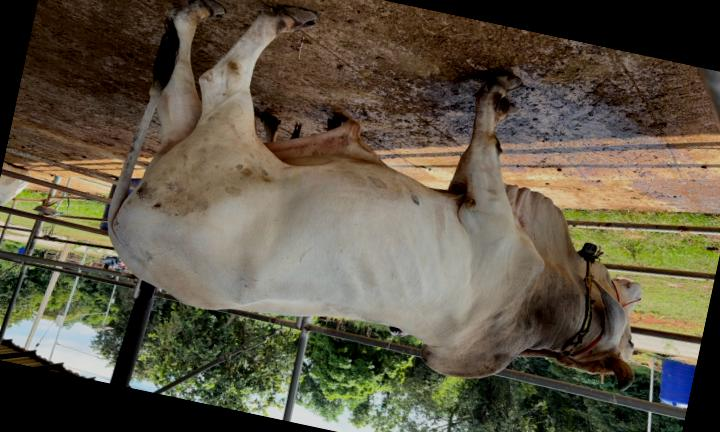Brahman: (107, 0, 640, 391)
